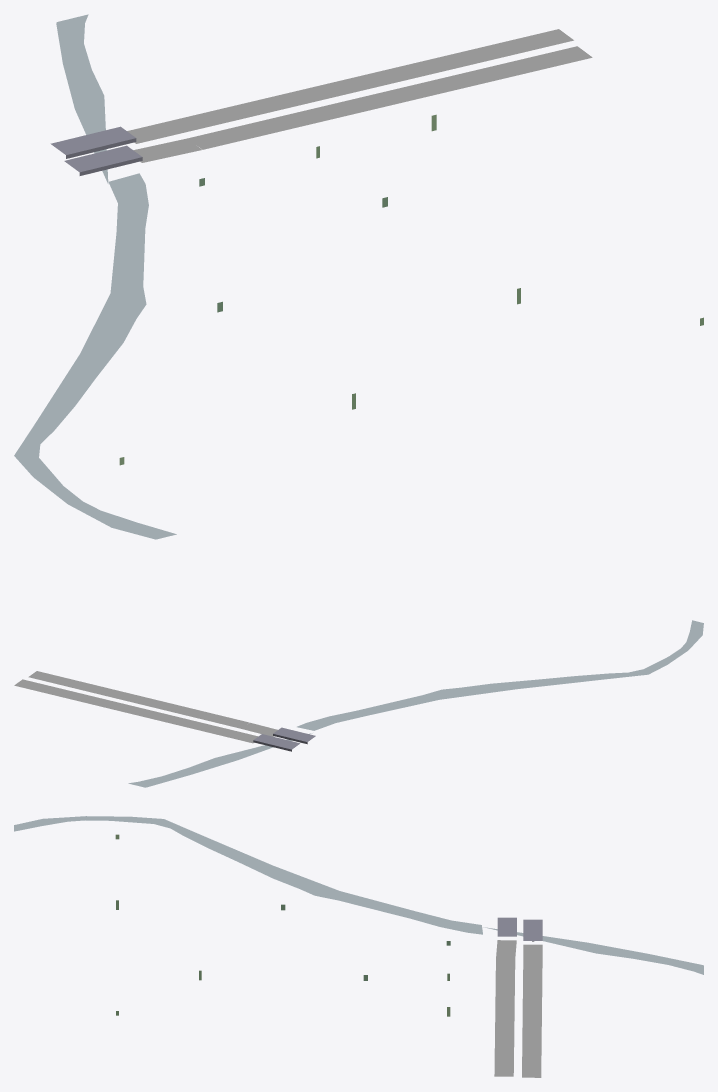
The picture shows the model from 3 angles, top to bottom: view 1: azimuth 30°, elevation 25°; view 2: azimuth 150°, elevation 25°; view 3: azimuth 270°, elevation 25°; orthographic projection. The views are drawn at different scales.
Size of the model in its own units: 445 by 9.8 by 500.
